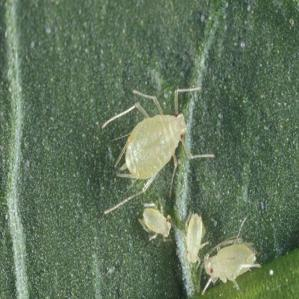Green peach aphid: (80, 76, 224, 199), (199, 236, 271, 292), (171, 200, 218, 266), (126, 197, 174, 254)
